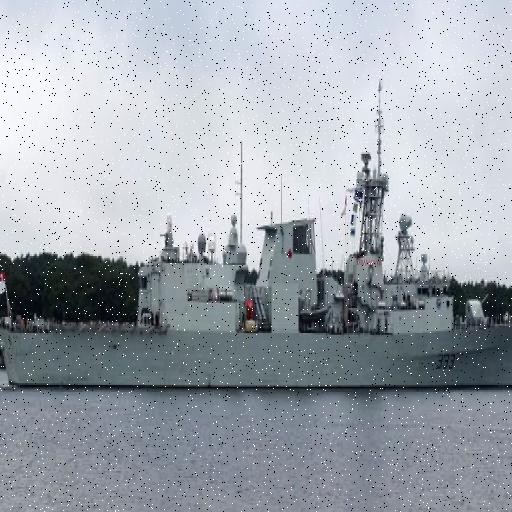Fragata: (1, 71, 512, 395)
